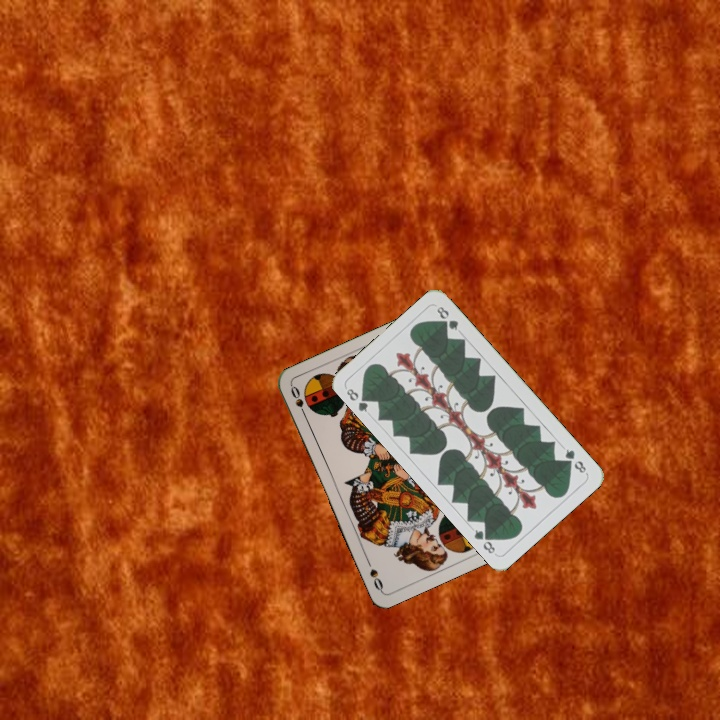G8: (342, 384, 373, 415), (561, 445, 589, 476)
SO: (287, 382, 309, 421)
